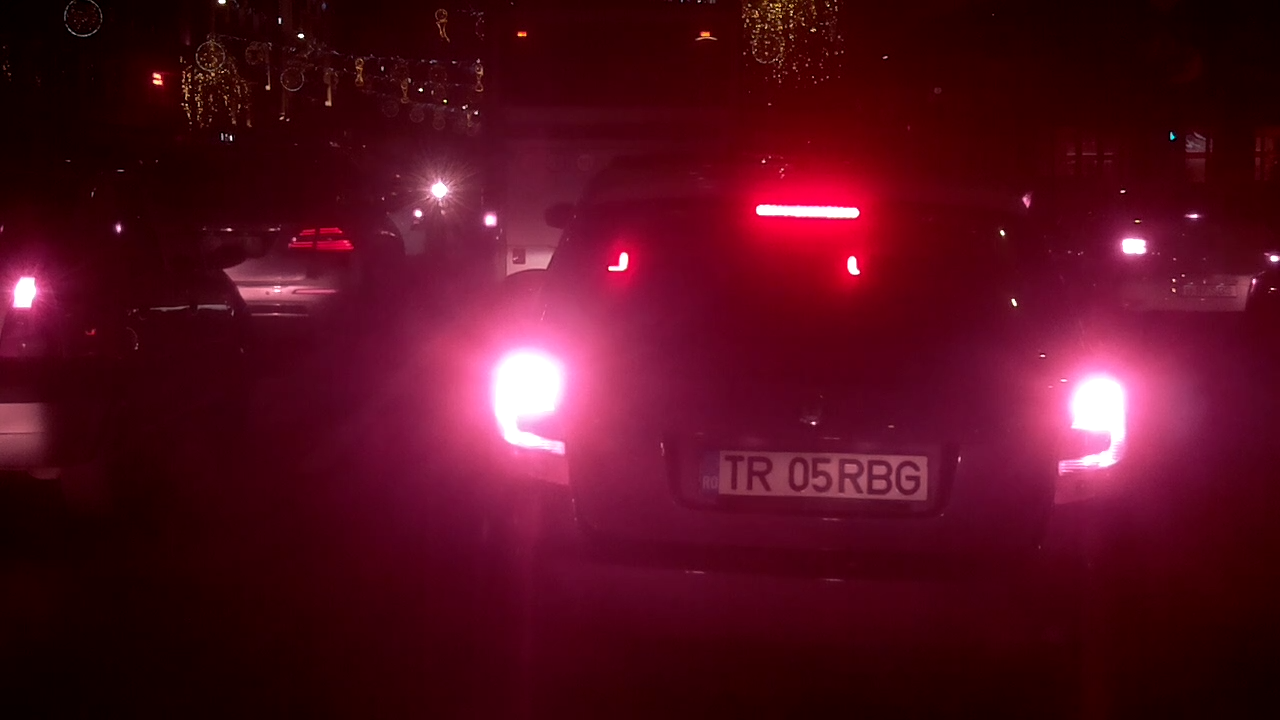license-plate: (693, 442, 943, 508)
